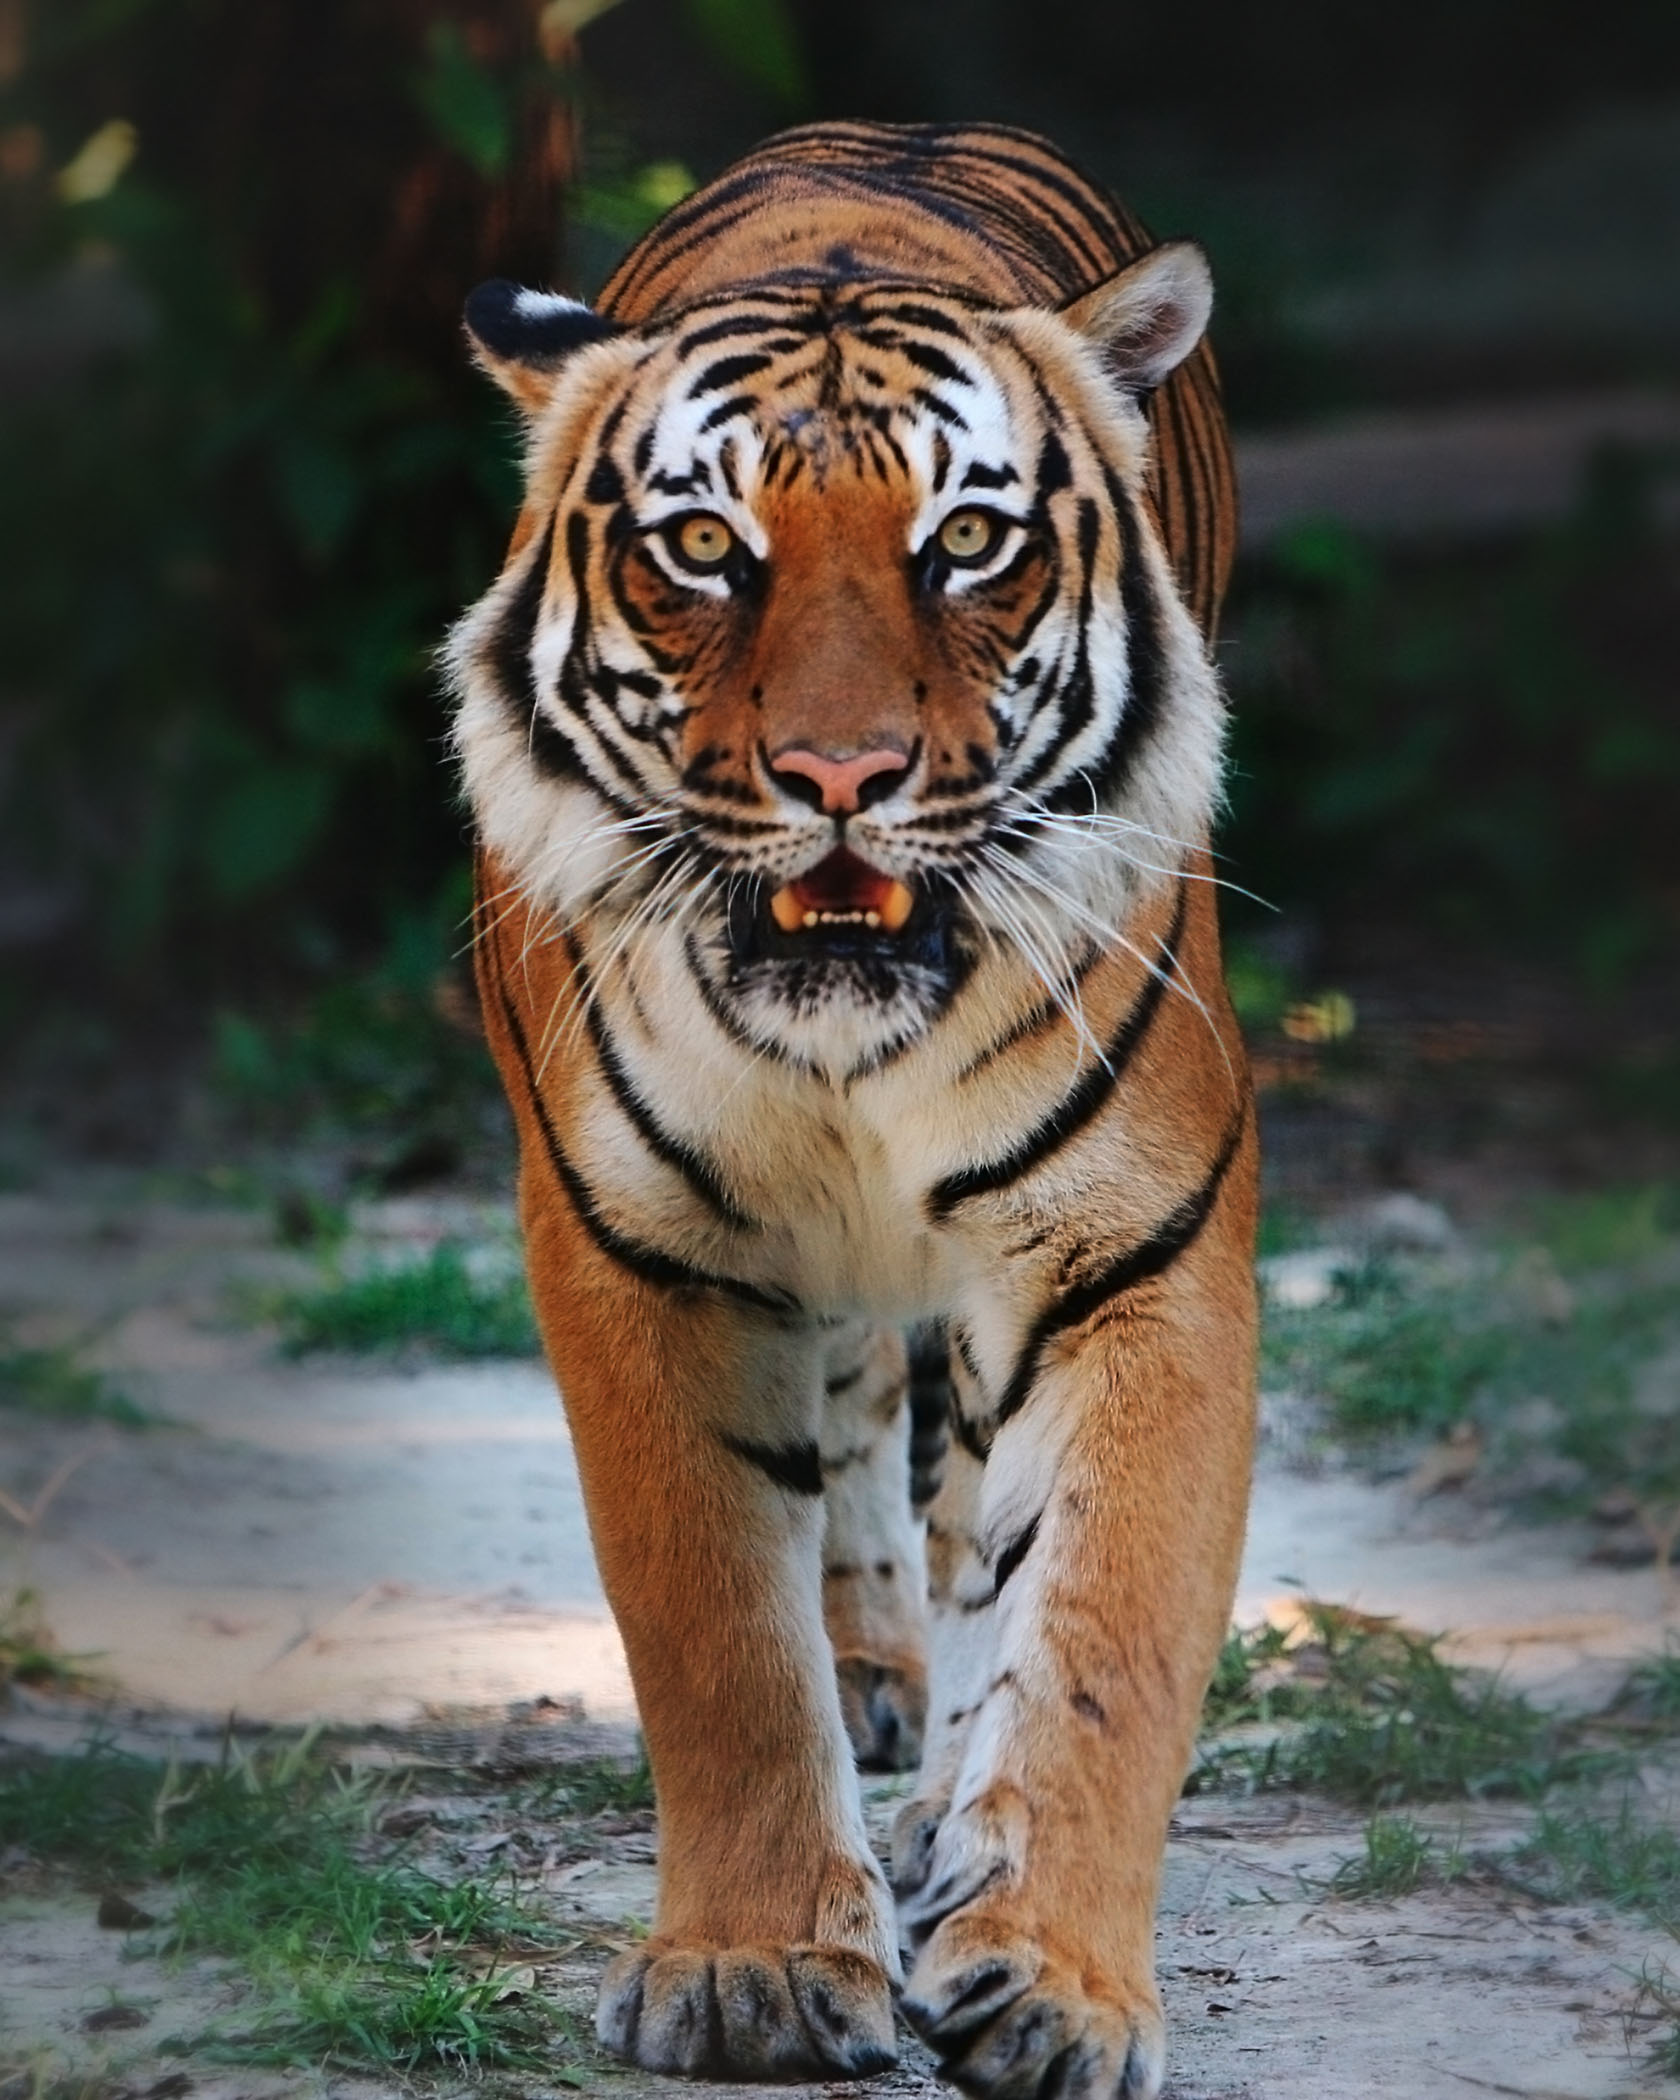Tiger: (345, 70, 1375, 2100)
